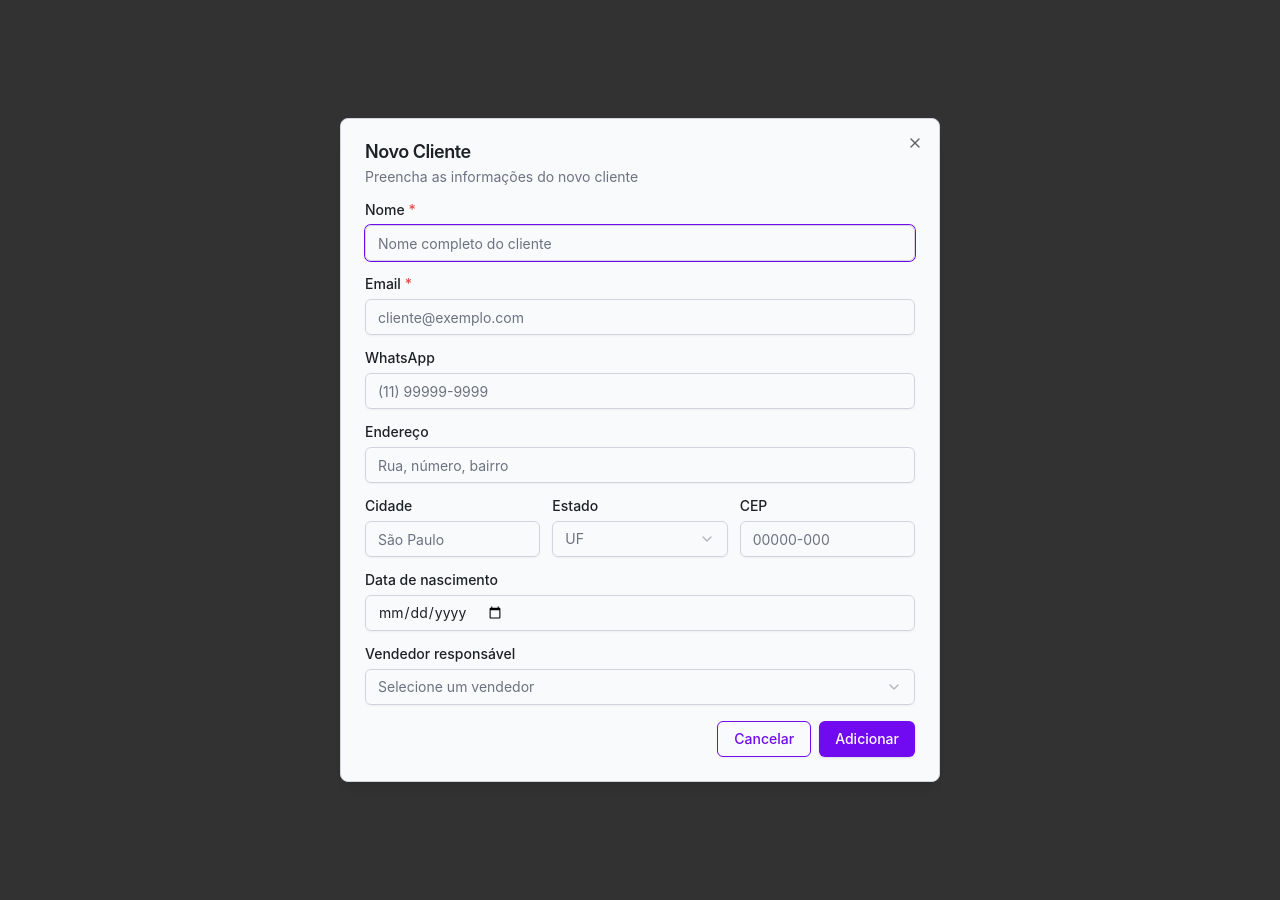
Test: FormularioCliente › validation › deve exibir erro quando nome está vazio
In the field labelled "Email *": (640, 317) x1=365 y1=299 x2=915 y2=335, type "teste@example.com"
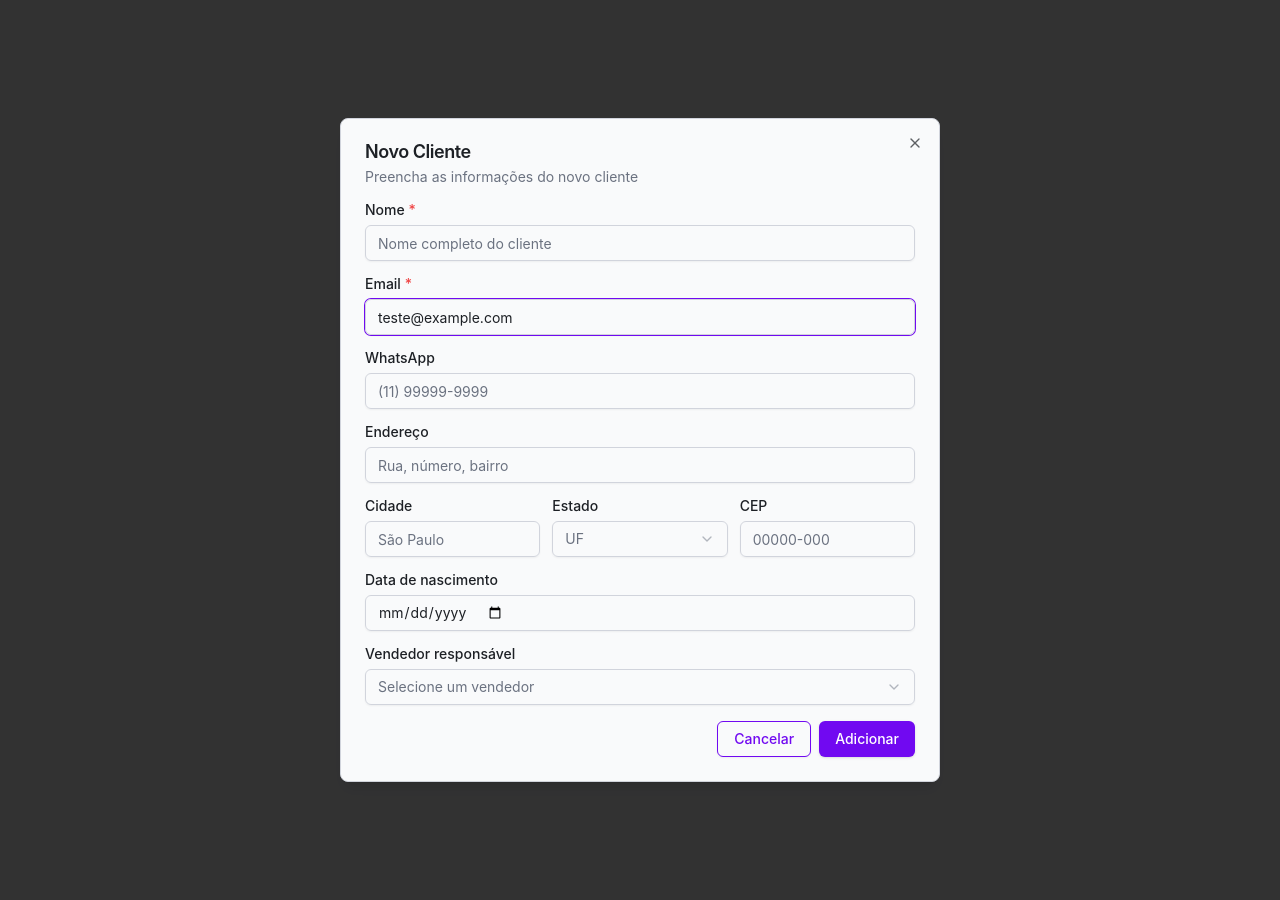
Click the button "Adicionar": (867, 739) x1=819 y1=721 x2=915 y2=757
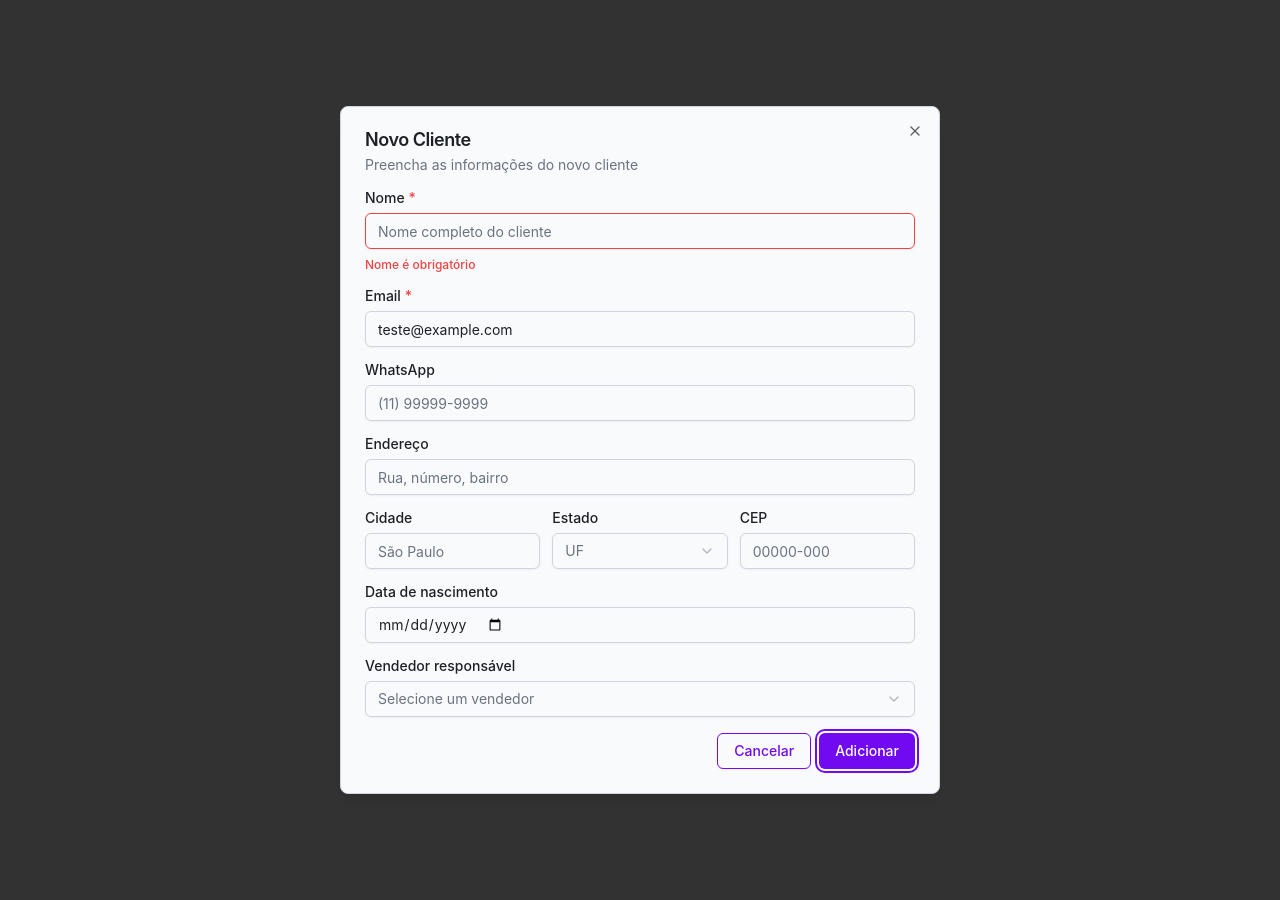
Expected: the text "Nome é obrigatório" is shown, x1=365 y1=257 x2=475 y2=272
